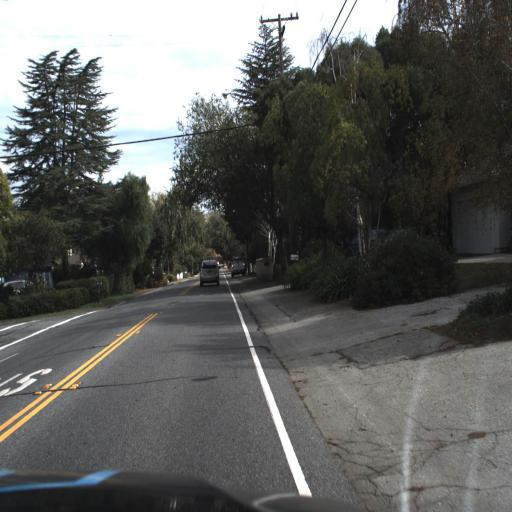car: (198, 258, 222, 286), (230, 255, 248, 279)
